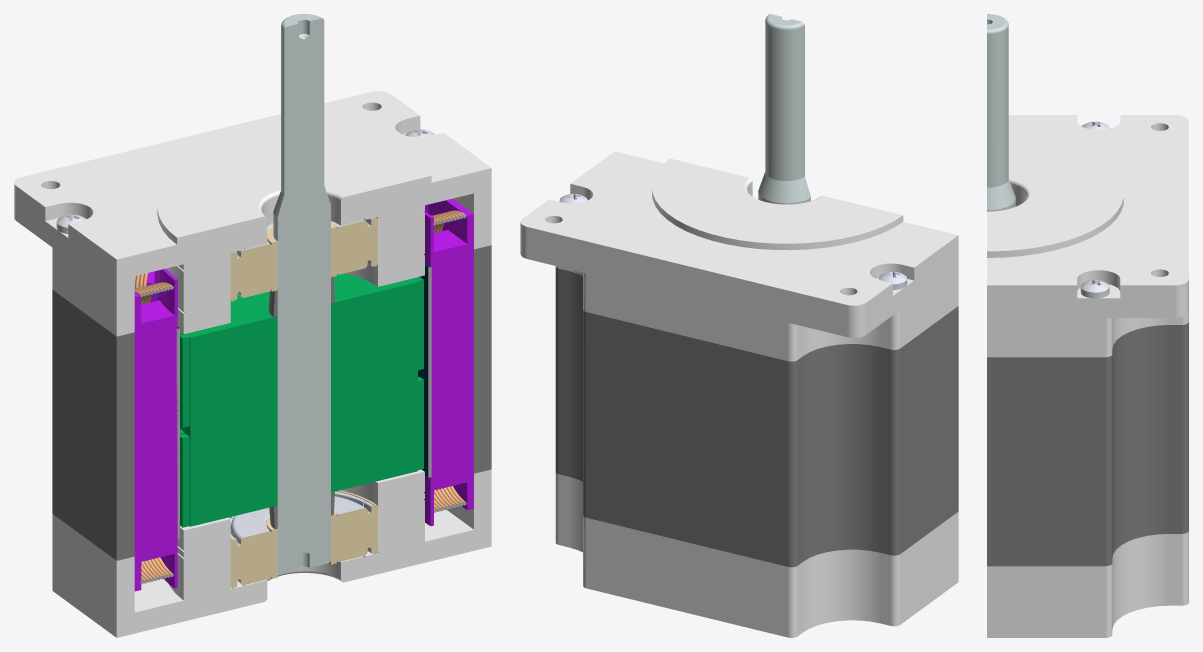
Rendered from sklop_step_motor_cutset.gltf.
3 renders of one model, left to right at view 1: azimuth 30°, elevation 25°; view 2: azimuth 150°, elevation 25°; view 3: azimuth 270°, elevation 25°, orthographic. The views are drawn at different scales.
Parts seen in each view (by area): view 1: rotor_cutset-1, gornje_kuciste_cutset-1, stator_cutset-1, donje_kuciste_cutset-1, donji_lezaj_cutset-1, gornji_lezaj_cutset-1; view 2: stator_cutset-1, gornje_kuciste_cutset-1, donje_kuciste_cutset-1, rotor_cutset-1; view 3: gornje_kuciste_cutset-1, stator_cutset-1, donje_kuciste_cutset-1, rotor_cutset-1, Vijci_cutset-1.
Boxes of the visible parts, x1=… form: rotor_cutset-1: x1=180, y1=14, x2=423, y2=574; gornje_kuciste_cutset-1: x1=14, y1=91, x2=491, y2=336; stator_cutset-1: x1=52, y1=198, x2=491, y2=591; donje_kuciste_cutset-1: x1=52, y1=469, x2=491, y2=637; donji_lezaj_cutset-1: x1=229, y1=490, x2=377, y2=588; gornji_lezaj_cutset-1: x1=230, y1=217, x2=377, y2=301; stator_cutset-1: x1=555, y1=267, x2=958, y2=567; gornje_kuciste_cutset-1: x1=520, y1=151, x2=958, y2=361; donje_kuciste_cutset-1: x1=555, y1=473, x2=958, y2=637; rotor_cutset-1: x1=758, y1=14, x2=810, y2=204; gornje_kuciste_cutset-1: x1=987, y1=115, x2=1188, y2=357; stator_cutset-1: x1=987, y1=322, x2=1188, y2=566; donje_kuciste_cutset-1: x1=987, y1=531, x2=1188, y2=637; rotor_cutset-1: x1=987, y1=14, x2=1015, y2=211; Vijci_cutset-1: x1=1080, y1=121, x2=1109, y2=298.
Bounding box in the file's own units: 0.056 × 0.0813 × 0.028.
